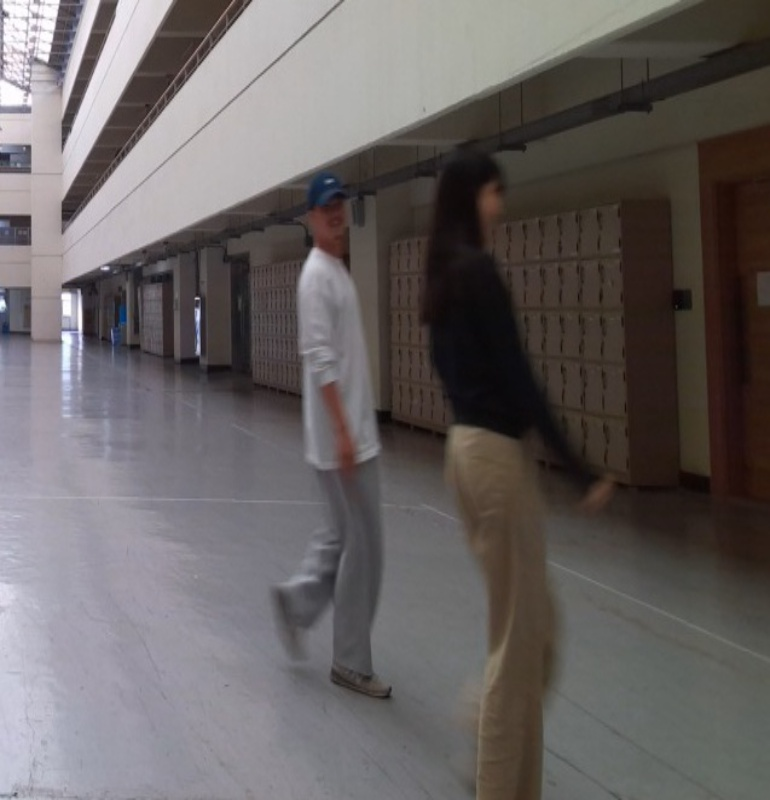person: (266, 167, 396, 696)
